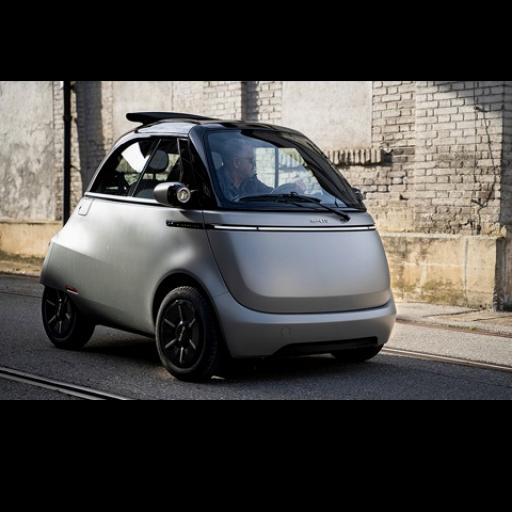hatchback: (39, 111, 395, 380)
